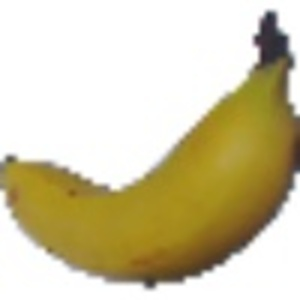banana: (5, 9, 297, 284)
